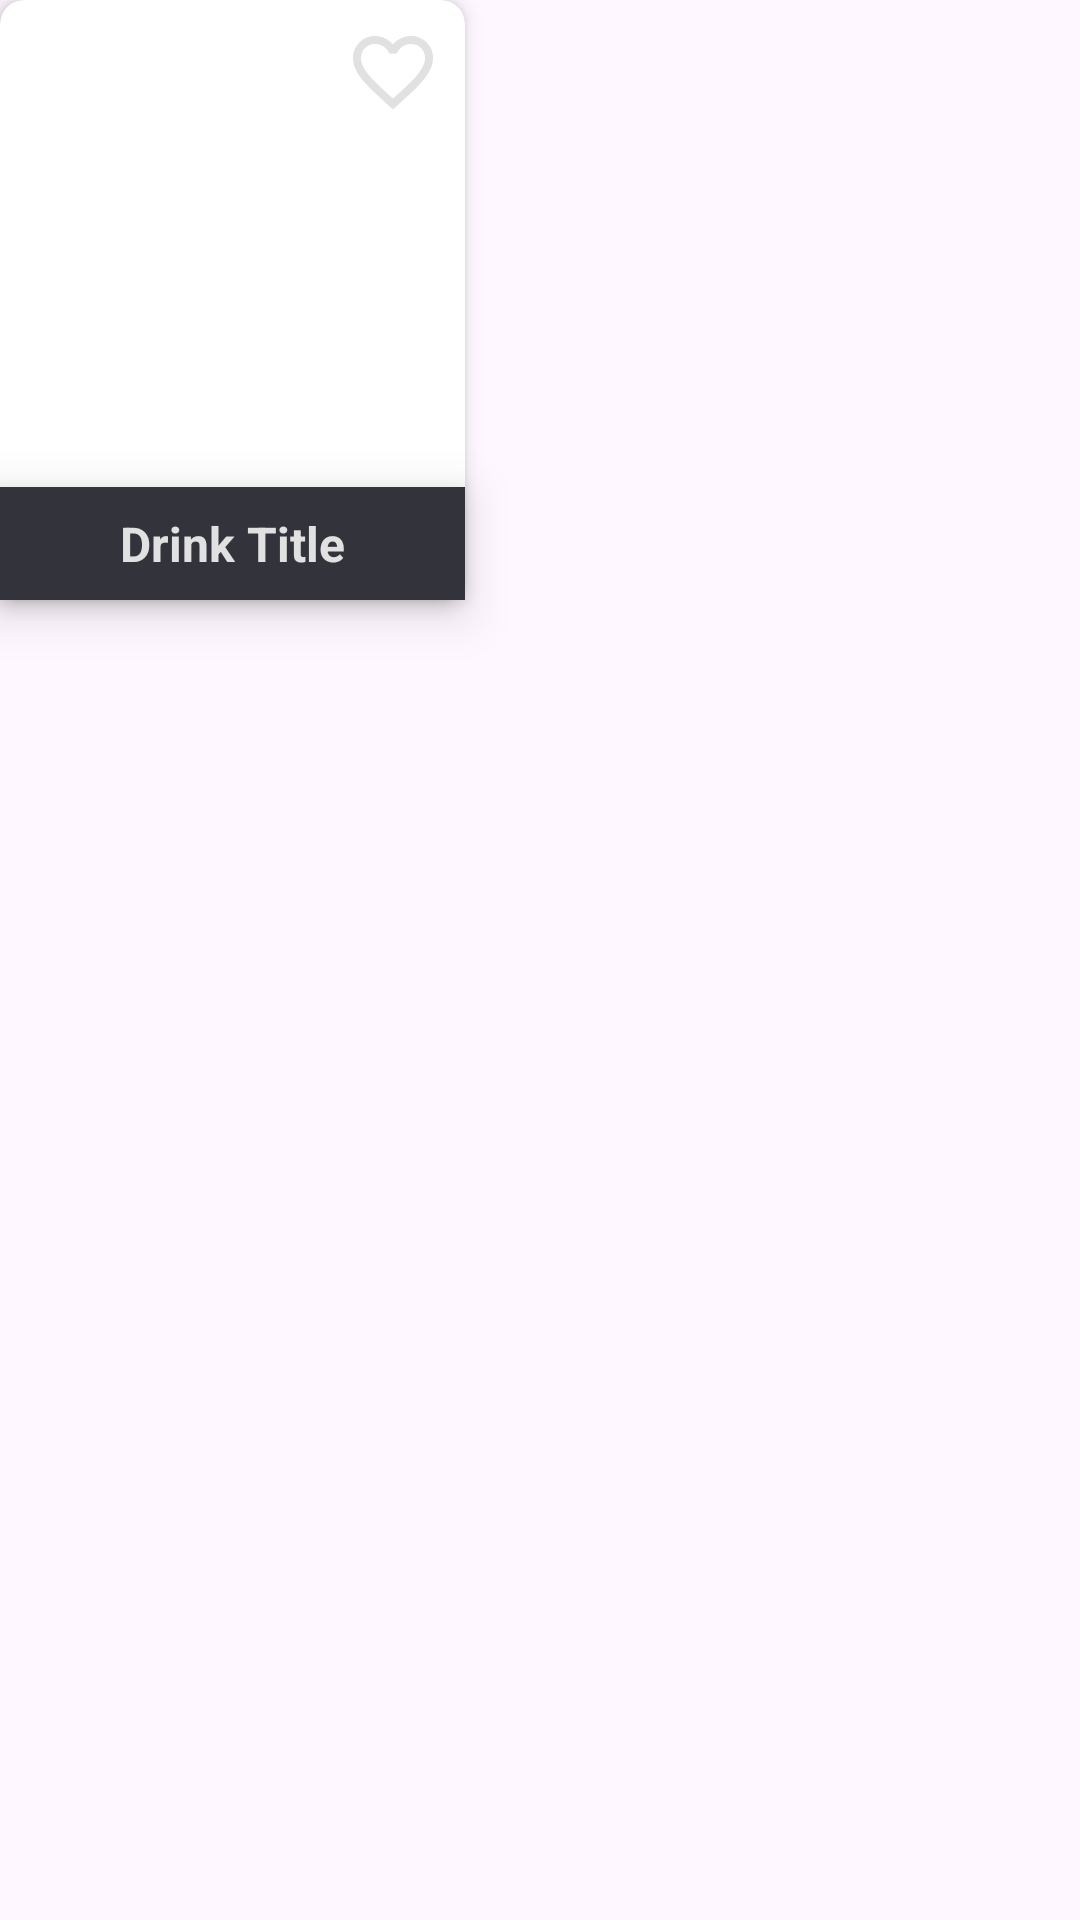

Icons on this 1080x1920 Android screen, each with its box as (x1, y1, x2, y2):
Heart icon: (353, 36, 433, 109)
